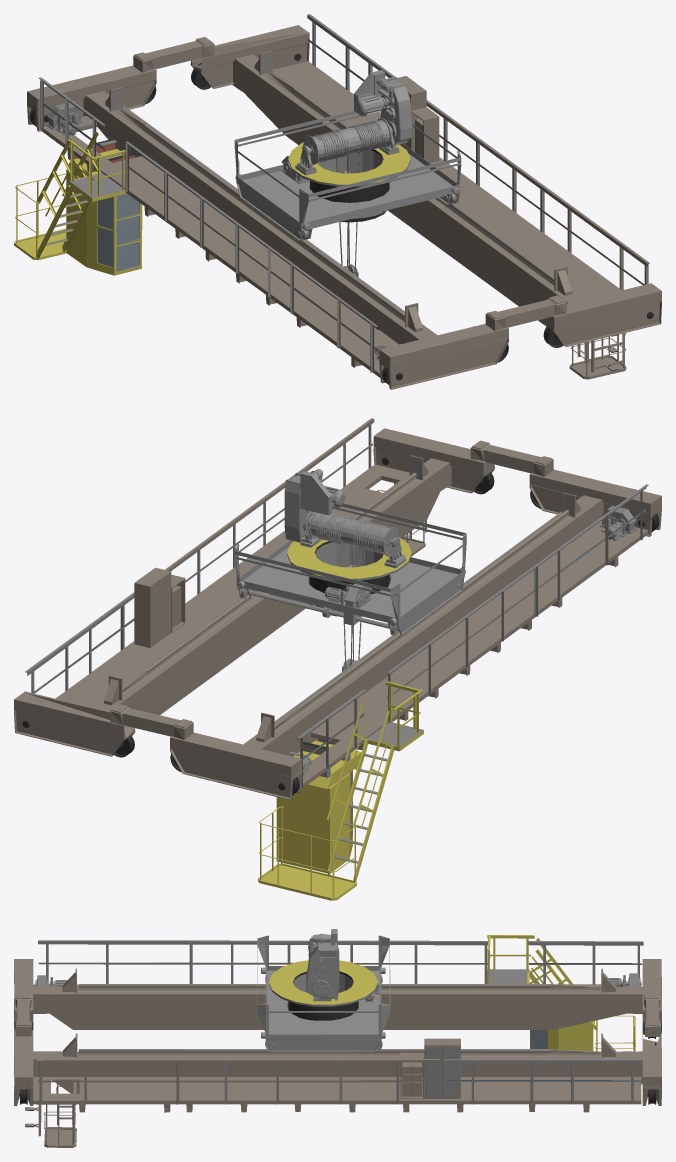
Rendered from CraneTurning.fbx.
3 views of the same model, one above another, from view 1: azimuth 30°, elevation 25°; view 2: azimuth 150°, elevation 25°; view 3: azimuth 270°, elevation 25° (orthographic). The views are drawn at different scales.
Parts seen in each view (by area): view 1: Кран мостовой электрический общего назначения001, Object013, Cylinder003; view 2: Кран мостовой электрический общего назначения001, Object013, Cylinder003; view 3: Кран мостовой электрический общего назначения001, Object013, Cylinder003.
Boxes of the visible parts, bbox=[...] form: Кран мостовой электрический общего назначения001: bbox=[14, 14, 661, 389]; Object013: bbox=[234, 110, 461, 240]; Cylinder003: bbox=[288, 70, 412, 222]; Кран мостовой электрический общего назначения001: bbox=[14, 418, 661, 900]; Object013: bbox=[234, 503, 466, 635]; Cylinder003: bbox=[284, 469, 411, 616]; Кран мостовой электрический общего назначения001: bbox=[14, 935, 661, 1147]; Object013: bbox=[257, 935, 390, 1051]; Cylinder003: bbox=[269, 929, 377, 1020].
Bounding box in the file's own units: 7.48 × 5.8 × 15.41.
